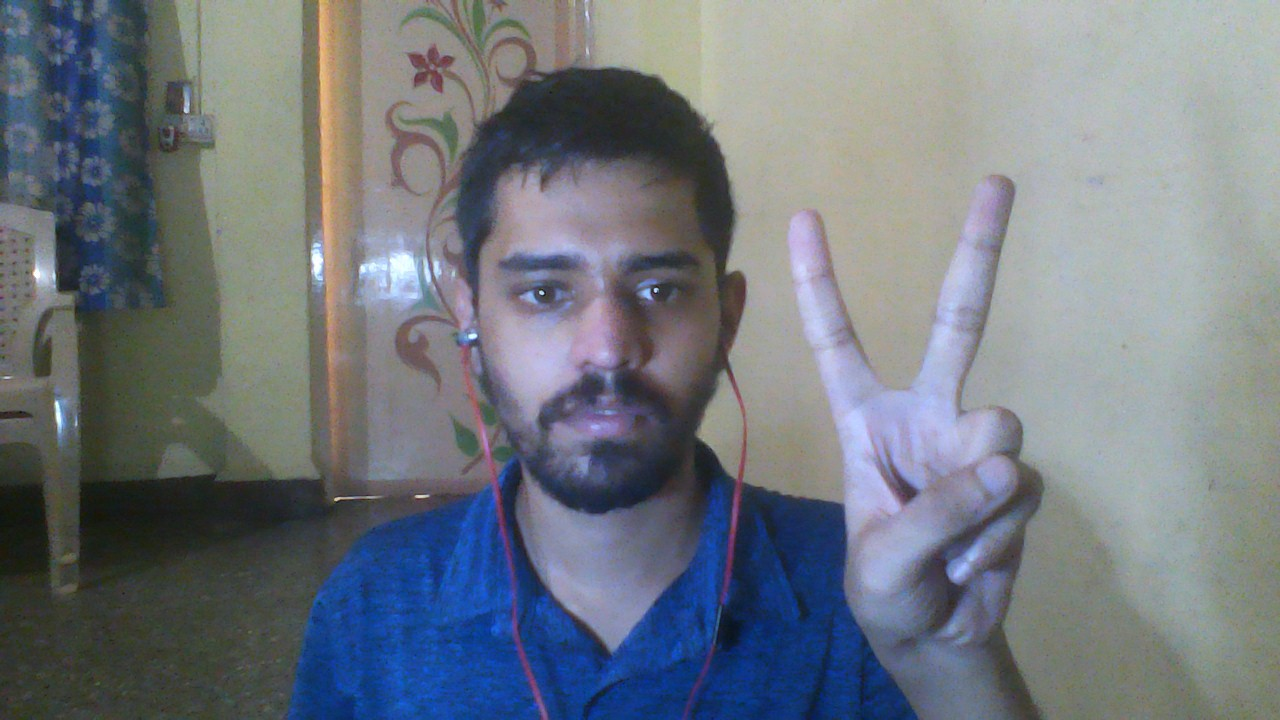v: (762, 137, 1092, 720)
